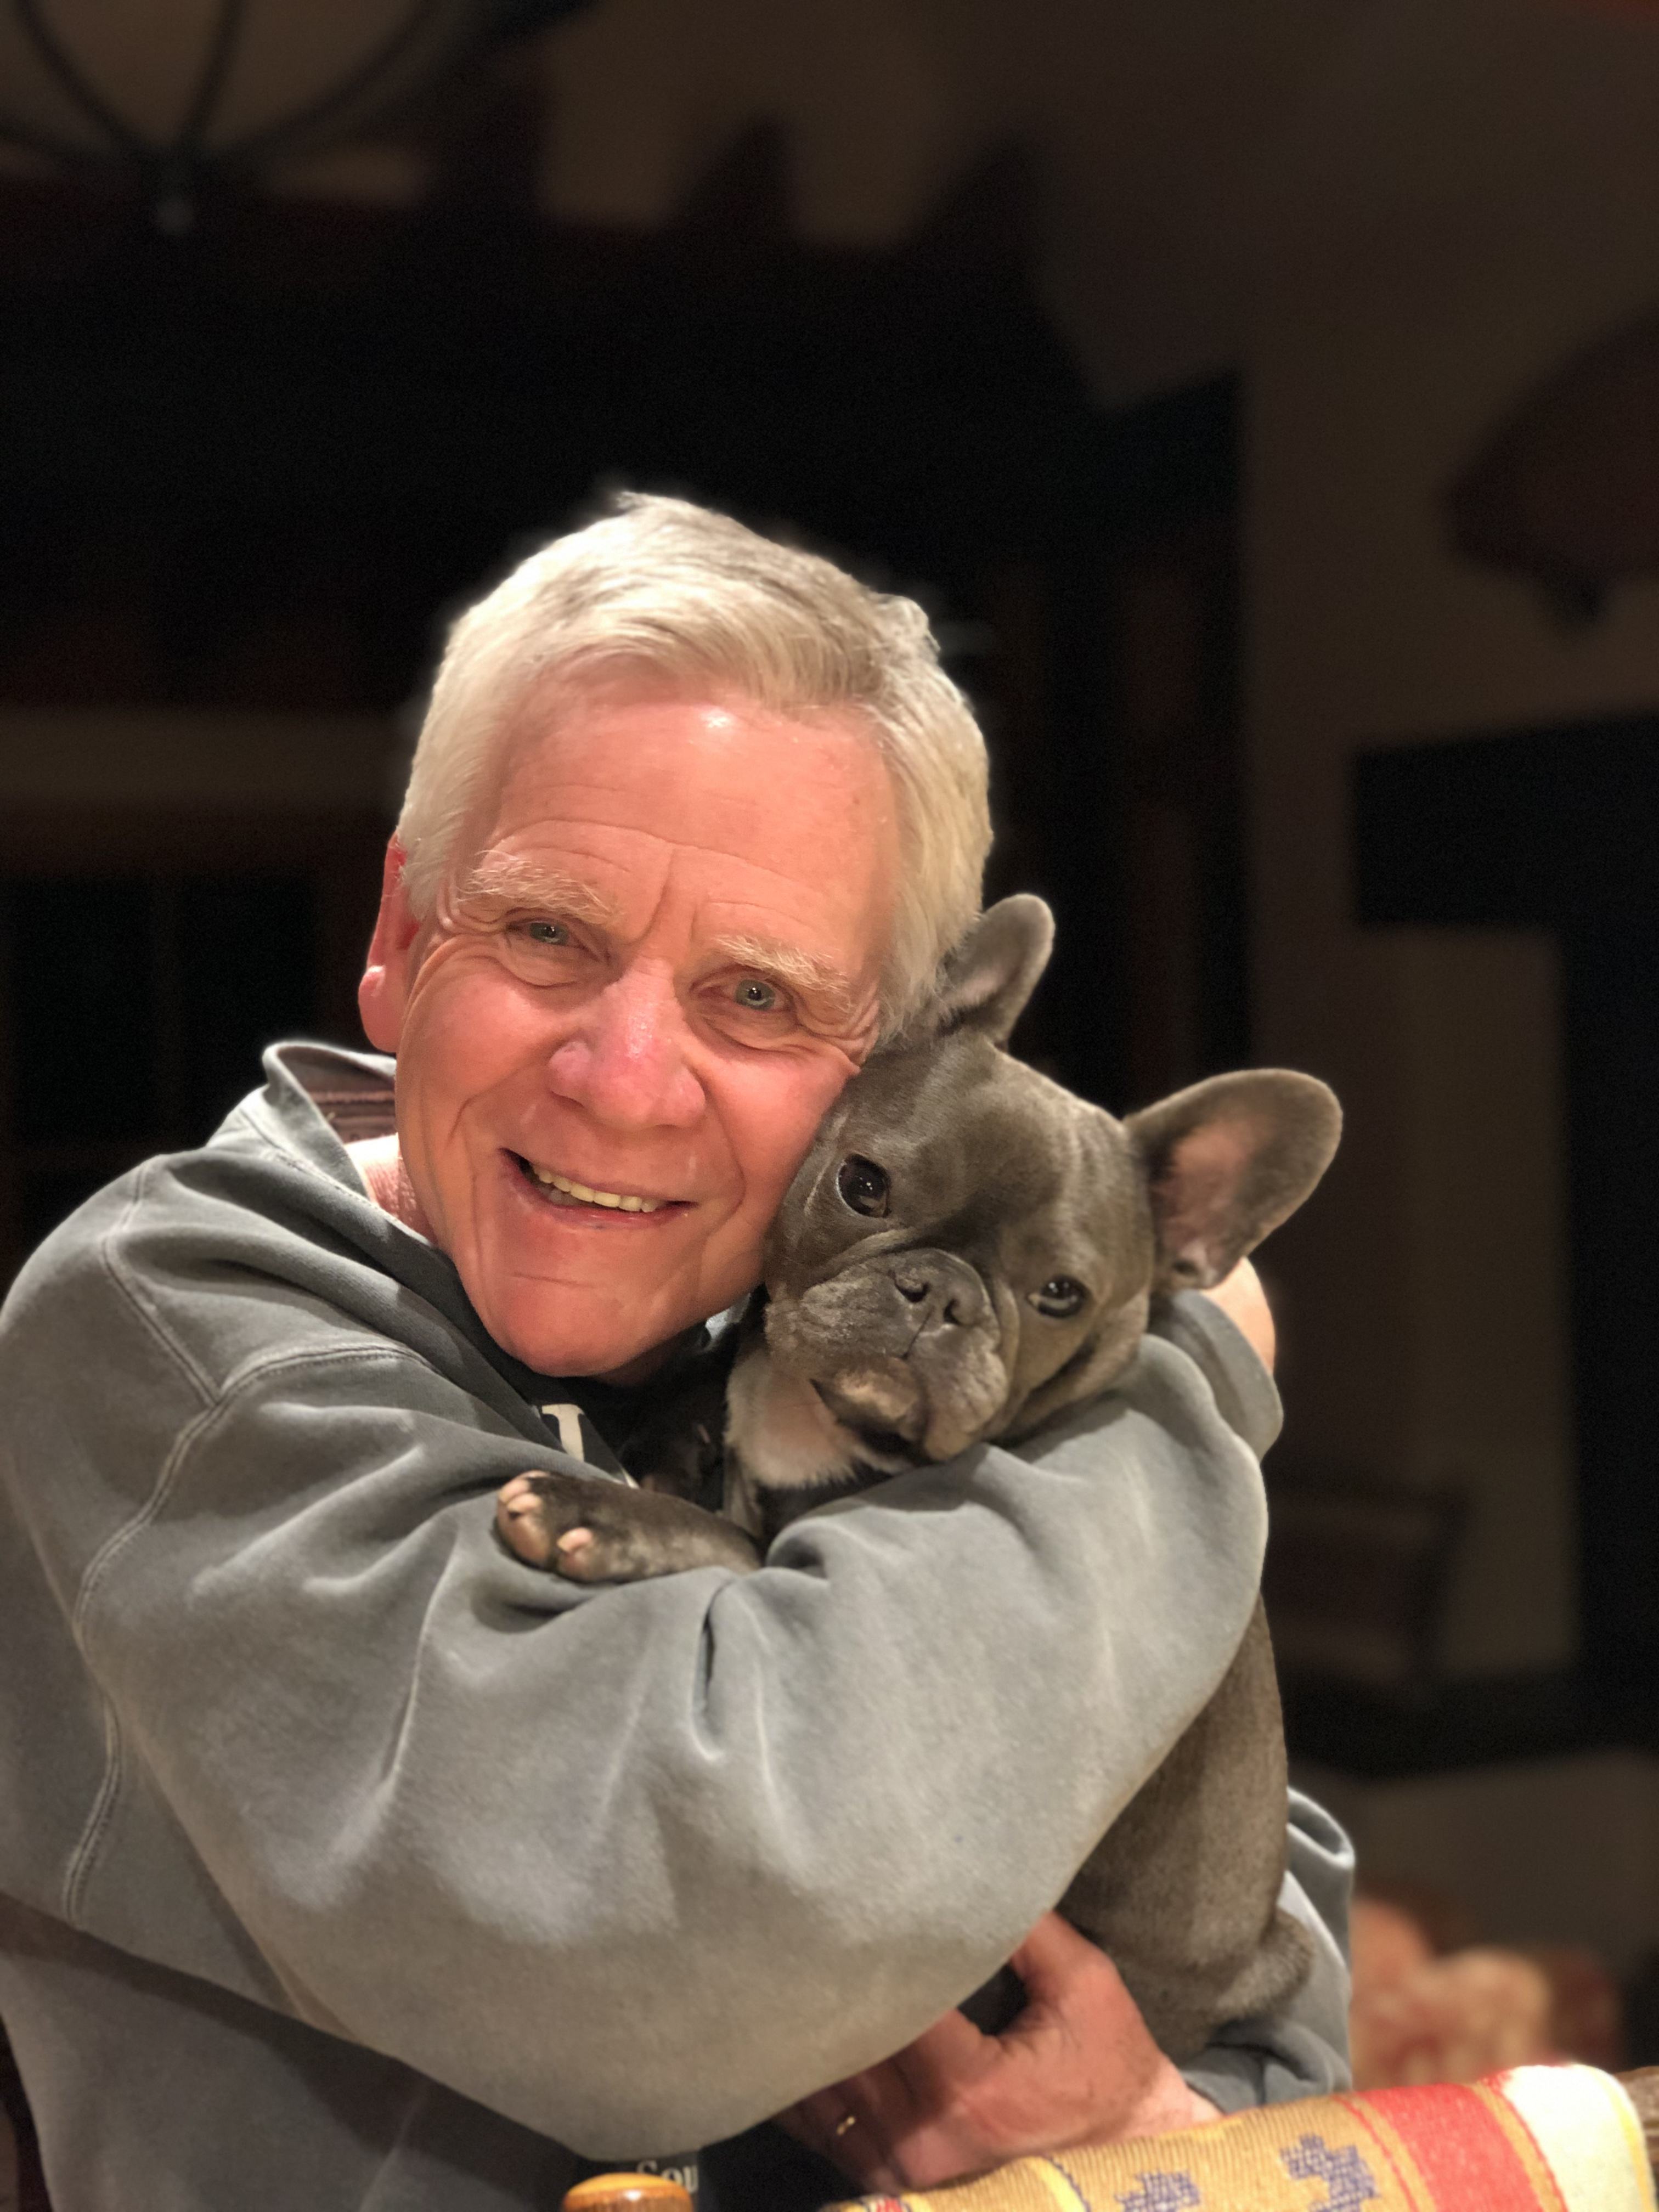lucy: (493, 881, 1317, 2060)
